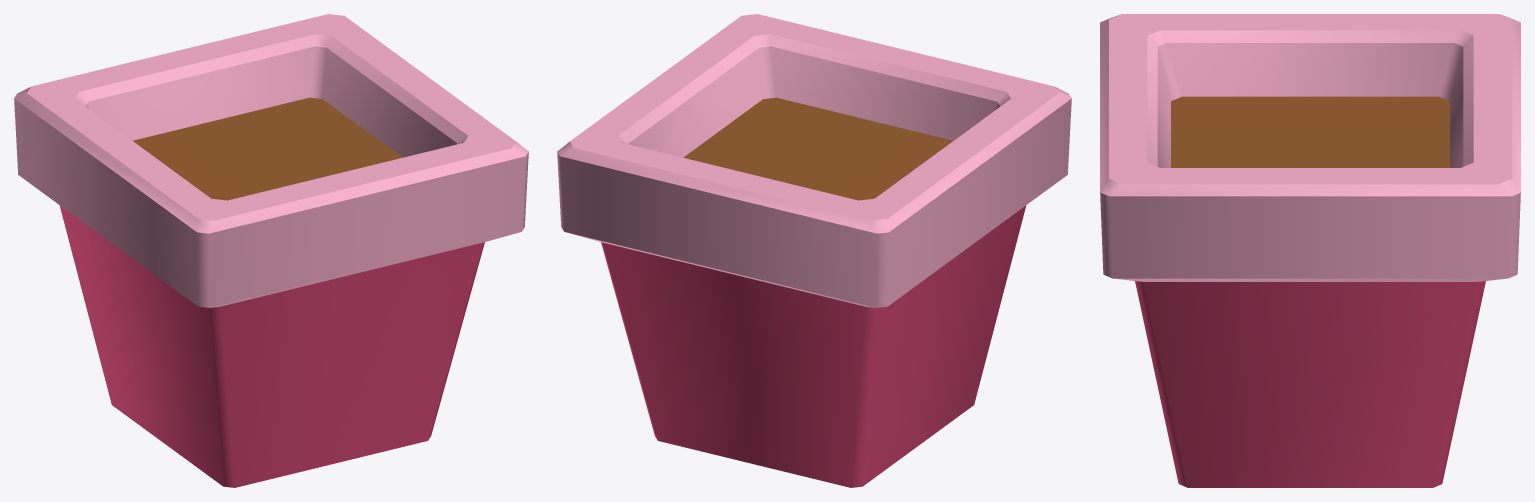
File: PlantPot_1_E.fbx
3 views of the same model, side by side, from view 1: azimuth 30°, elevation 25°; view 2: azimuth 150°, elevation 25°; view 3: azimuth 270°, elevation 25° (orthographic). The views are drawn at different scales.
Parts seen in each view (by area): view 1: PlantPot_1_E; view 2: PlantPot_1_E; view 3: PlantPot_1_E.
Part boxes in pixels (left/top/right/bottom): PlantPot_1_E: left=14, top=14, right=528, bottom=487; PlantPot_1_E: left=557, top=14, right=1071, bottom=487; PlantPot_1_E: left=1100, top=14, right=1520, bottom=487.
Size of the model in its own units: 27.48 by 24 by 27.48.
